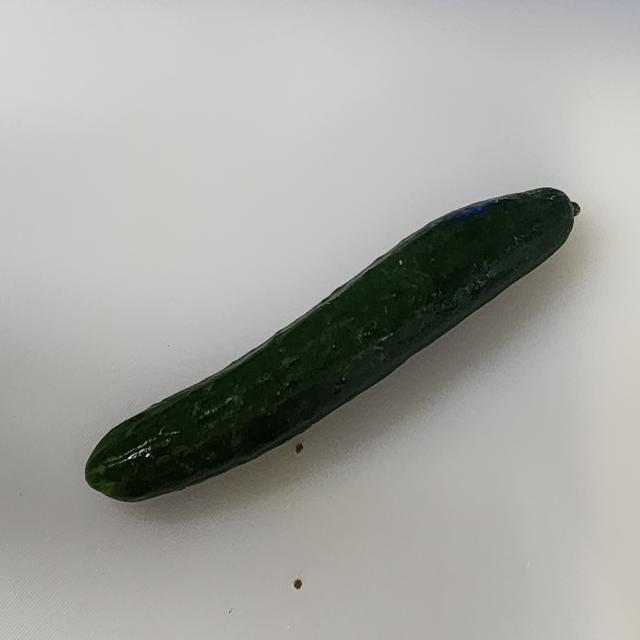cucumber: (84, 184, 580, 503)
